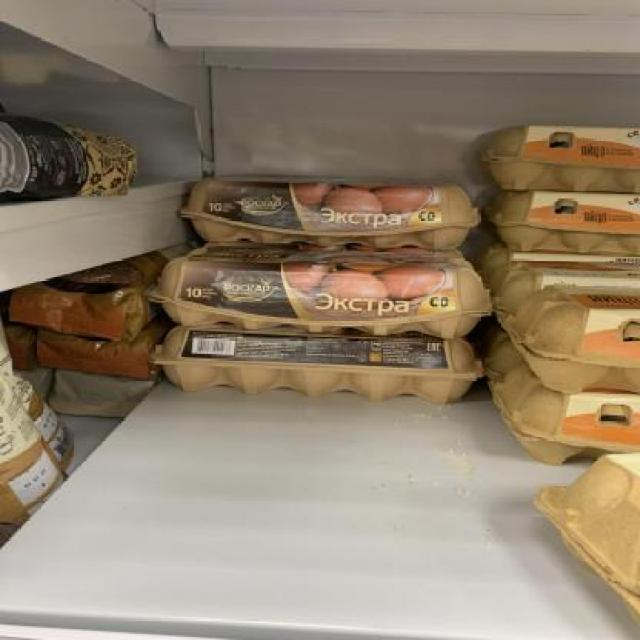Egg: (150, 246, 495, 334), (175, 173, 480, 250), (0, 249, 157, 342), (506, 285, 640, 393), (475, 121, 640, 196), (0, 112, 140, 196), (483, 190, 640, 259)
